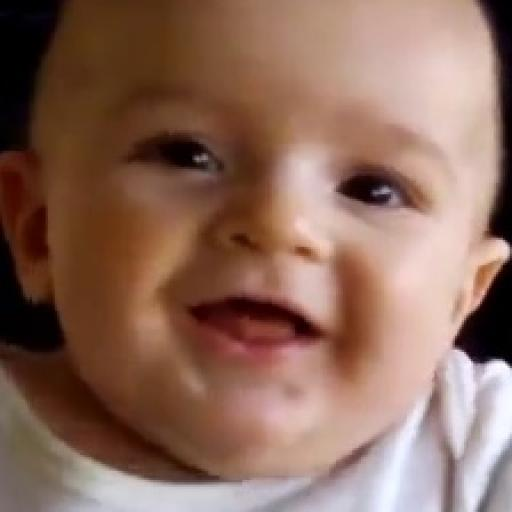Autism: (35, 6, 433, 464)
